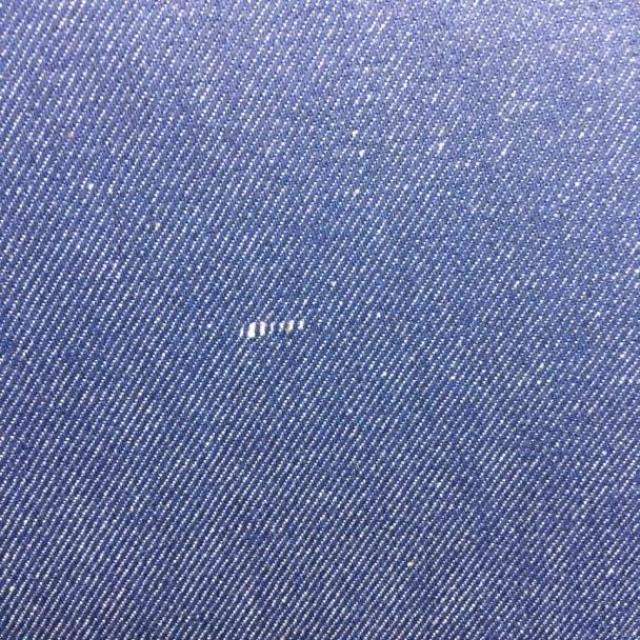Knot: (239, 321, 305, 339)
